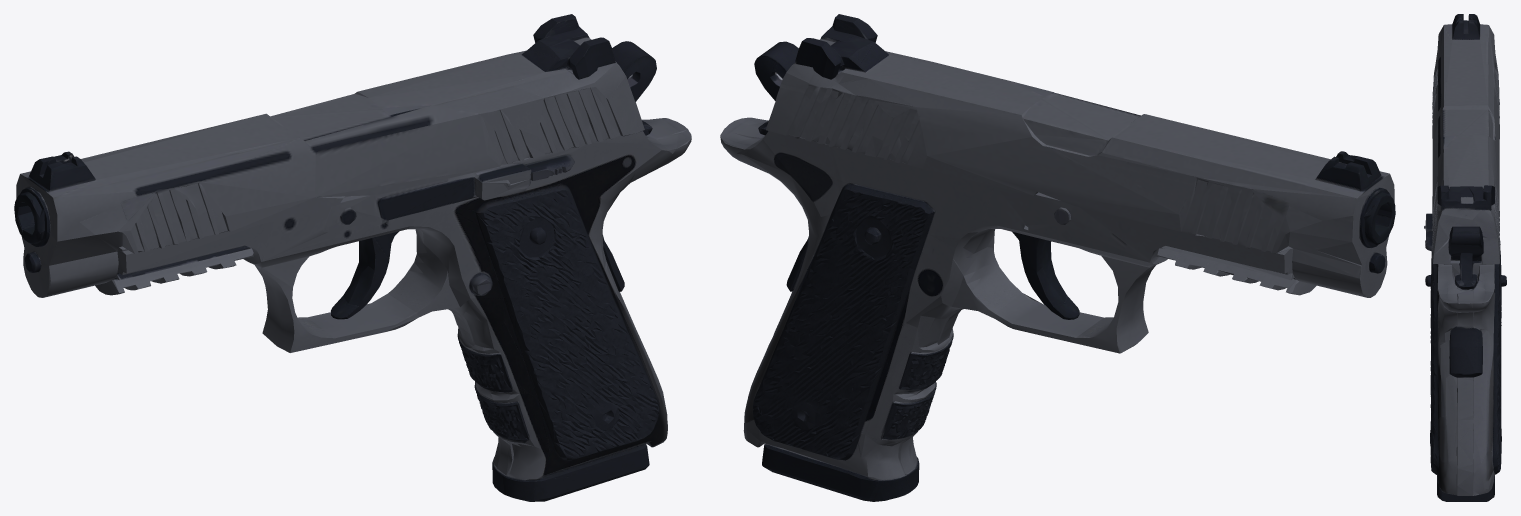
The model's file is pistol.glb.
The picture shows the model from 3 angles, left to right: view 1: azimuth 30°, elevation 25°; view 2: azimuth 150°, elevation 25°; view 3: azimuth 270°, elevation 25°; orthographic projection. The views are drawn at different scales.
Bounding box in the file's own units: 1.9 × 1.24 × 0.3075.
Materials: 1 (1 with a texture image).
